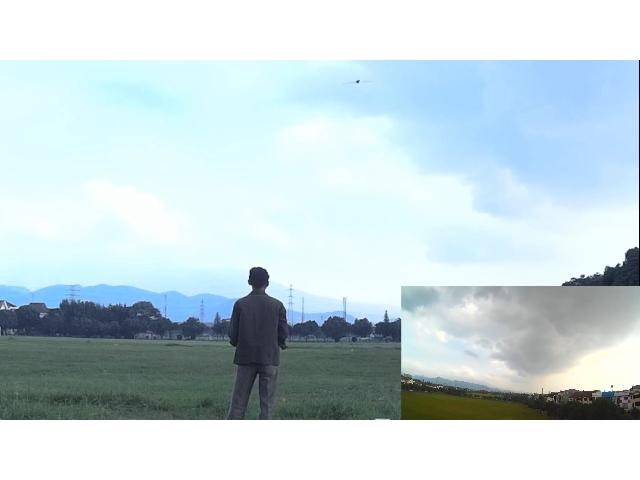Anti-Drone: (342, 78, 374, 84)
